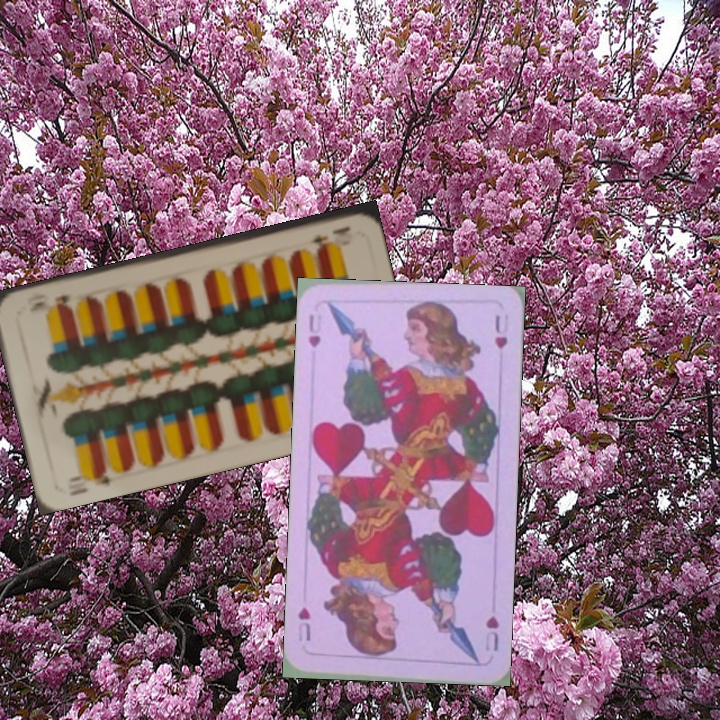E10: (65, 463, 113, 499), (305, 222, 353, 247)
HU: (481, 611, 501, 654), (304, 310, 325, 350)
